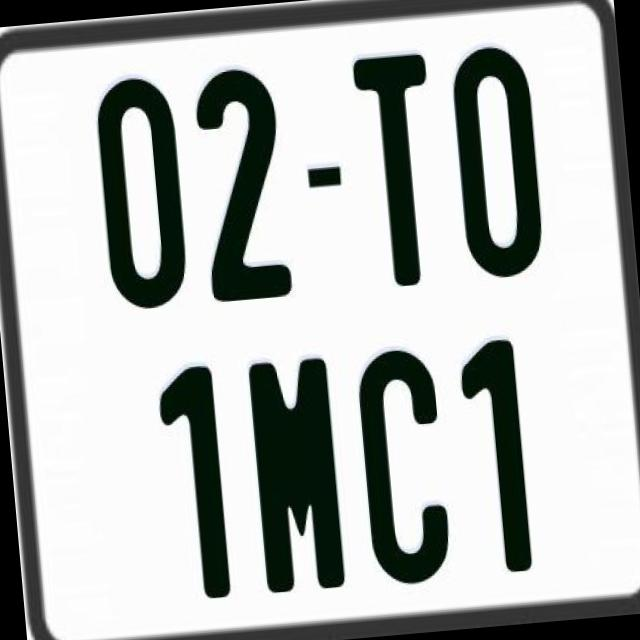0: (448, 39, 554, 284), (88, 73, 188, 320)
1: (156, 360, 238, 600), (456, 337, 534, 576)
2: (190, 62, 294, 300)
C: (353, 345, 457, 591)
M: (245, 354, 346, 598)
T: (348, 51, 442, 289)
